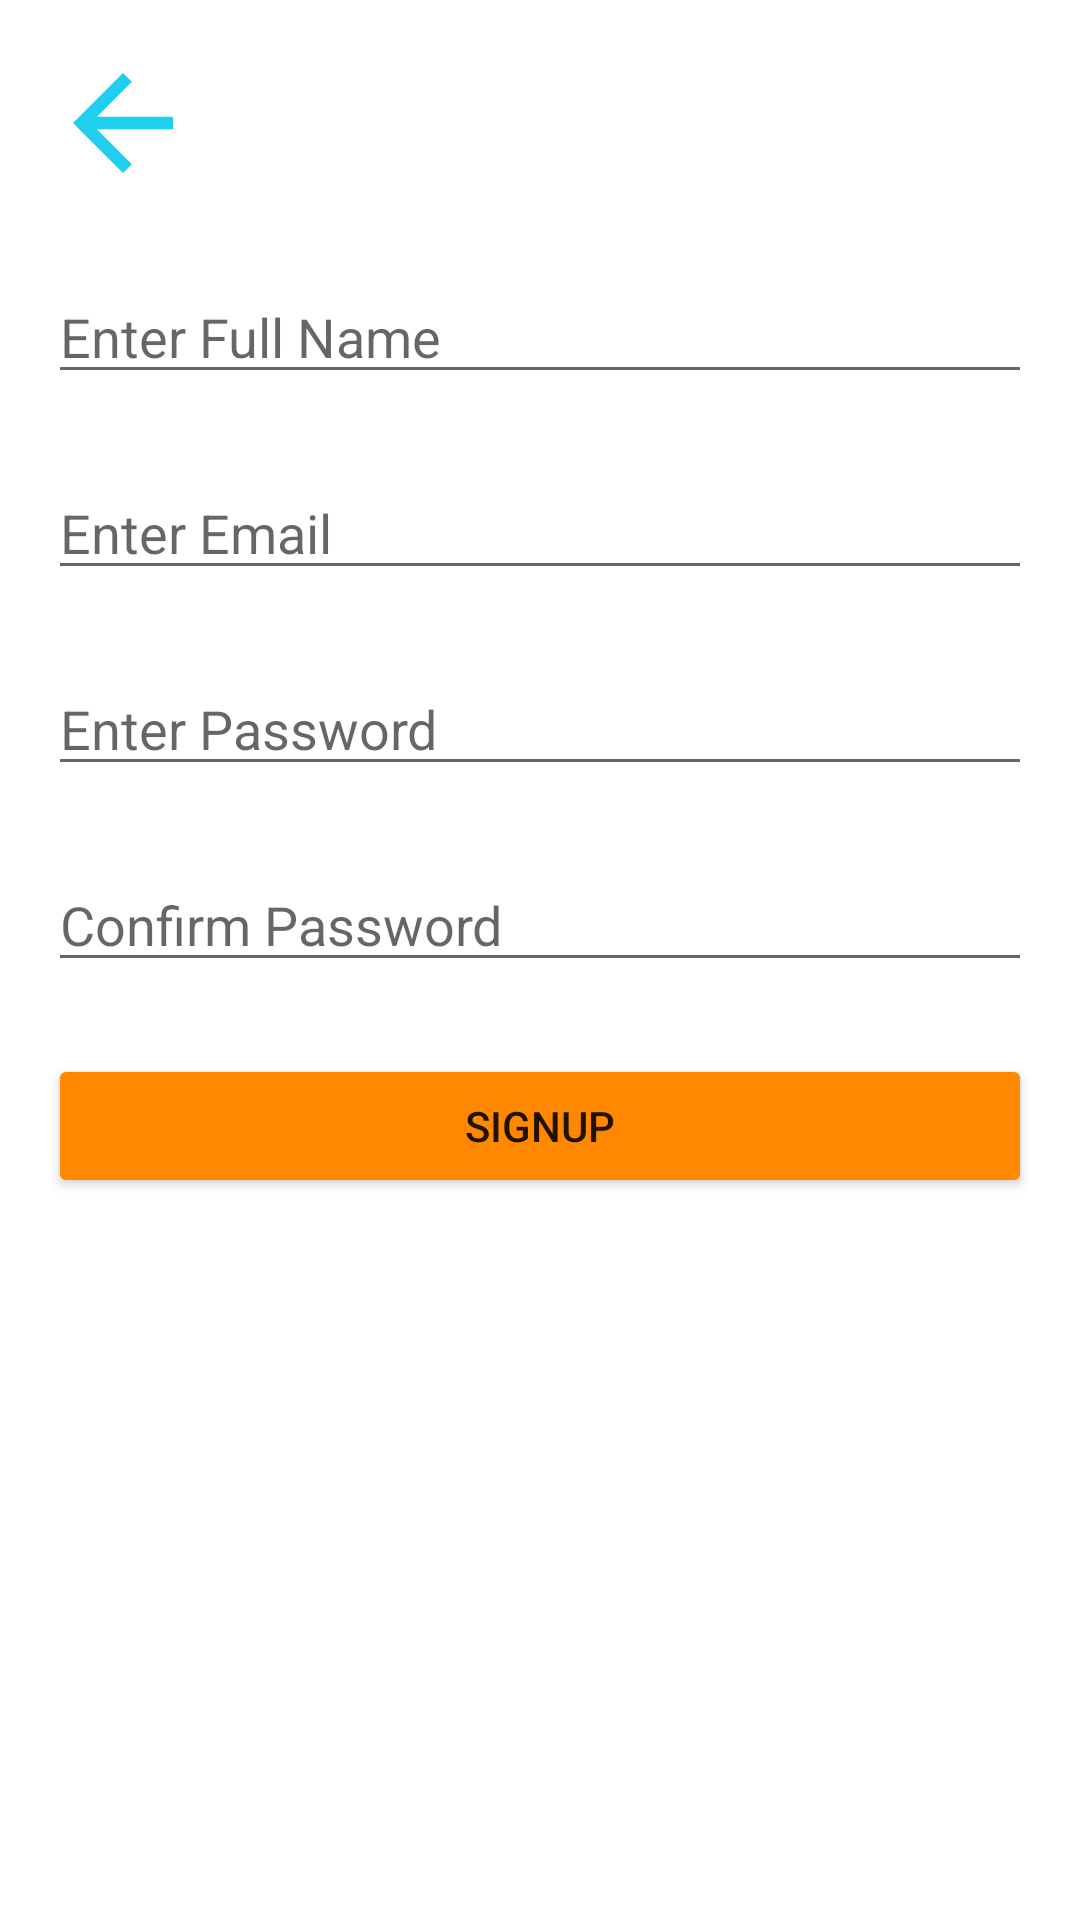

Named icons in this screenshot (1080px x 1920px) and their centers, (x=x, y=y):
back: (x=123, y=123)
